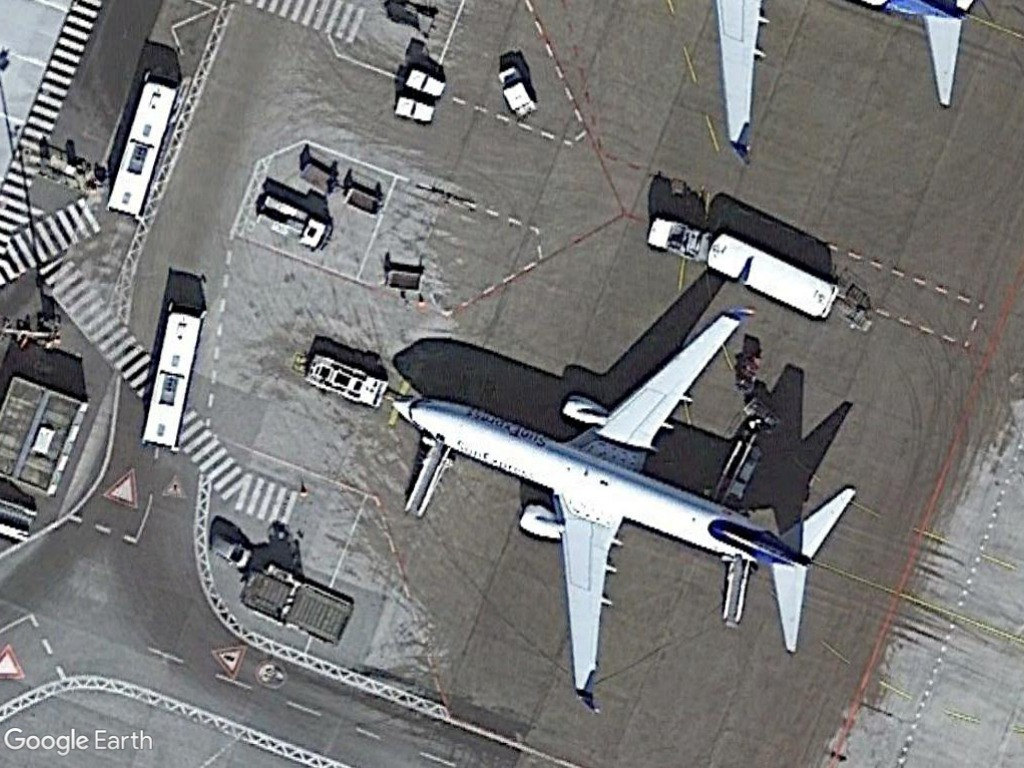airliner: (385, 298, 865, 710)
bus: (100, 72, 187, 225), (134, 298, 210, 457)
car: (206, 531, 253, 572)
longvehicle: (644, 204, 843, 329)
pushbacktruck: (295, 346, 391, 408), (249, 188, 334, 254)
stairtruck: (384, 440, 456, 523), (717, 560, 753, 631)
